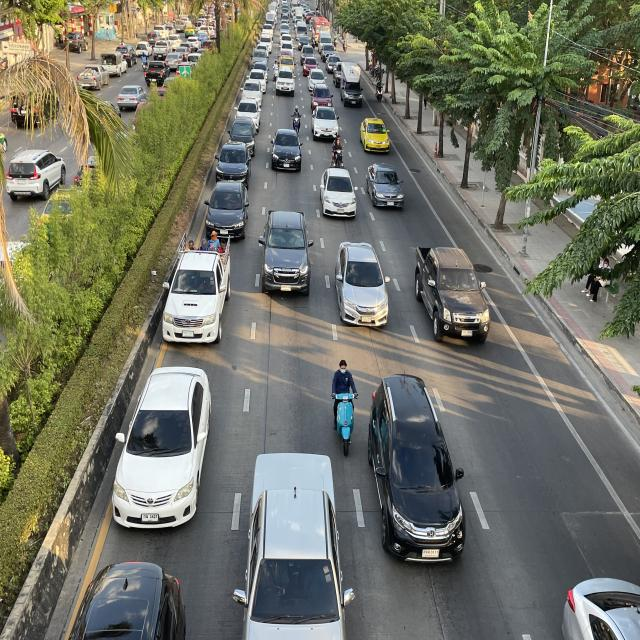bike: (324, 351, 364, 462), (329, 130, 345, 174), (290, 102, 302, 136)
truck: (153, 226, 235, 351), (339, 60, 364, 111)
